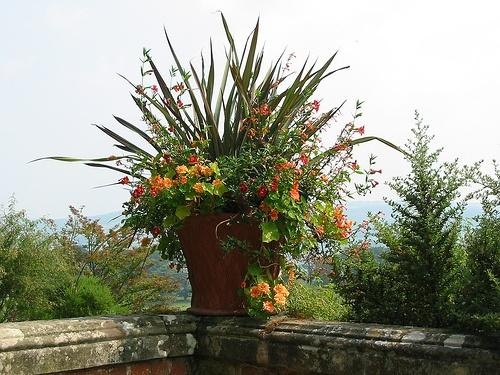pottedplant: (23, 8, 381, 319)
